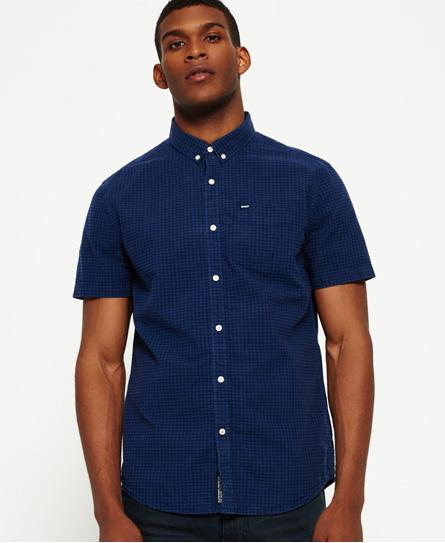teeshirt: (66, 110, 388, 523)
